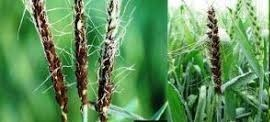Wheat Loose Smut: (29, 3, 127, 110), (204, 5, 230, 93)
